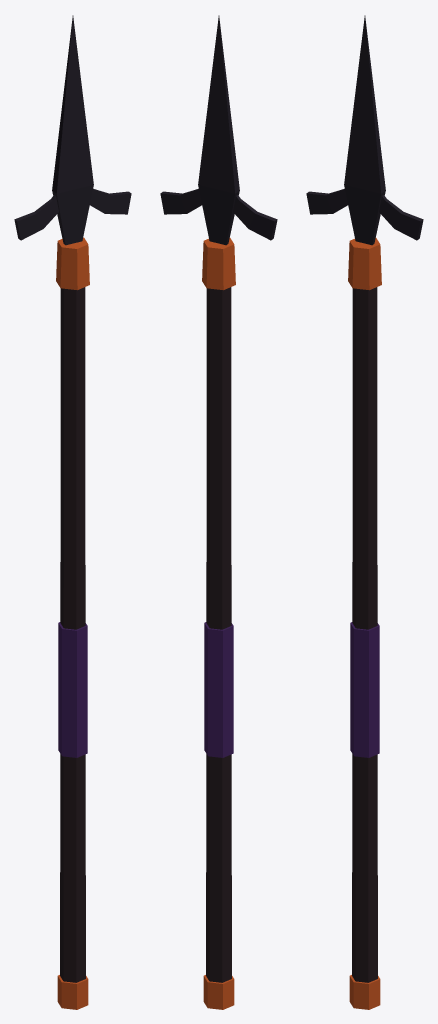
The model's file is weapon_naginata.glb.
The picture shows the model from 3 angles, left to right: view 1: azimuth 30°, elevation 25°; view 2: azimuth 150°, elevation 25°; view 3: azimuth 330°, elevation 25°; orthographic projection.
Visible parts, largest first — view 1: demon_weapon_naginata; view 2: demon_weapon_naginata; view 3: demon_weapon_naginata.
Boxes of the visible parts, left/top/right/bottom form: demon_weapon_naginata: left=14, top=15, right=131, bottom=1009; demon_weapon_naginata: left=160, top=15, right=277, bottom=1009; demon_weapon_naginata: left=306, top=15, right=423, bottom=1009.
Size of the model in its own units: 0.2483 by 2.05 by 0.0638.
